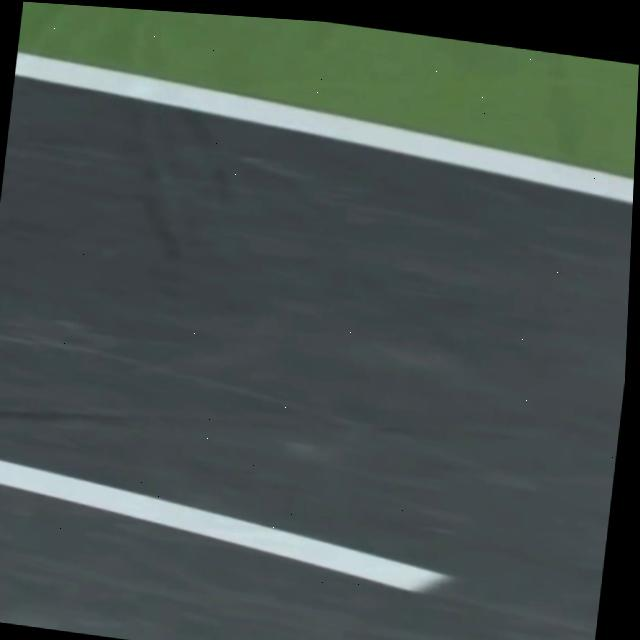center: (0, 460, 448, 591)
right: (13, 52, 634, 205)
